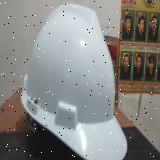Helmet: (21, 3, 128, 160)
